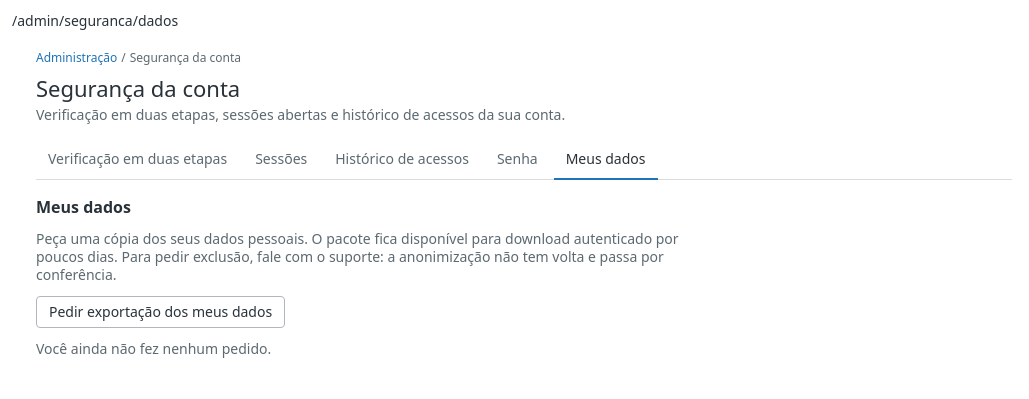
Test: Segurança: sessões, histórico e senha › meus dados: pede exportação e lista o pedido
Expected: the text "Você ainda não fez nenhum pedido." is shown, [36,339,271,358]
Click the button "Pedir exportação dos meus dados" at [161, 312], box [36,296,285,328]
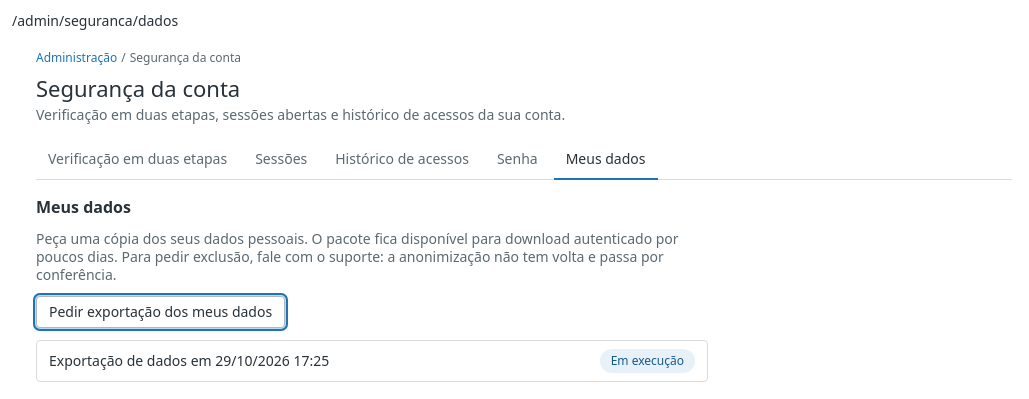
Now the text "Em execução" is shown, box [611,353,684,369]
